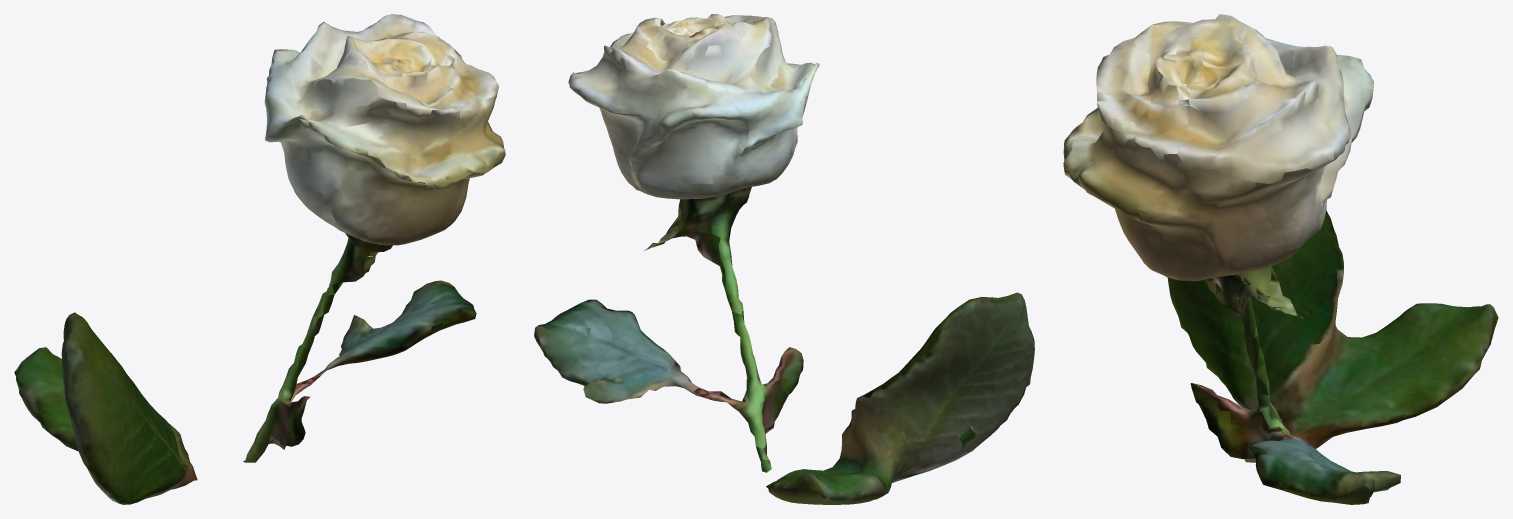
3 views of the same model, side by side, from view 1: azimuth 30°, elevation 25°; view 2: azimuth 150°, elevation 25°; view 3: azimuth 270°, elevation 25° (orthographic). The views are drawn at different scales.
Visible parts, largest first — view 1: 1ee1c664; view 2: 1ee1c664; view 3: 1ee1c664.
Boxes of the visible parts, x1,y1,x2,y2 form: 1ee1c664: [14, 14, 505, 504]; 1ee1c664: [534, 14, 1034, 504]; 1ee1c664: [1063, 14, 1498, 504].
Bounding box in the file's own units: 0.0893 × 0.0805 × 0.0617.
Materials: 1 (1 with a texture image).
